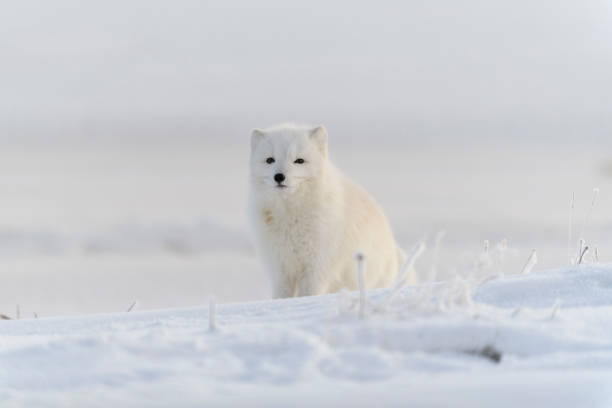arcticfox: (249, 124, 306, 206)
